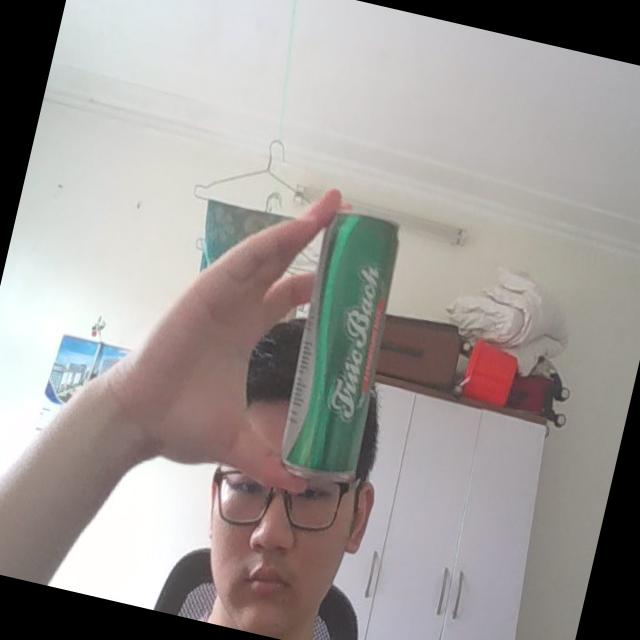Bia-Truc-Bach: (266, 195, 418, 494)
